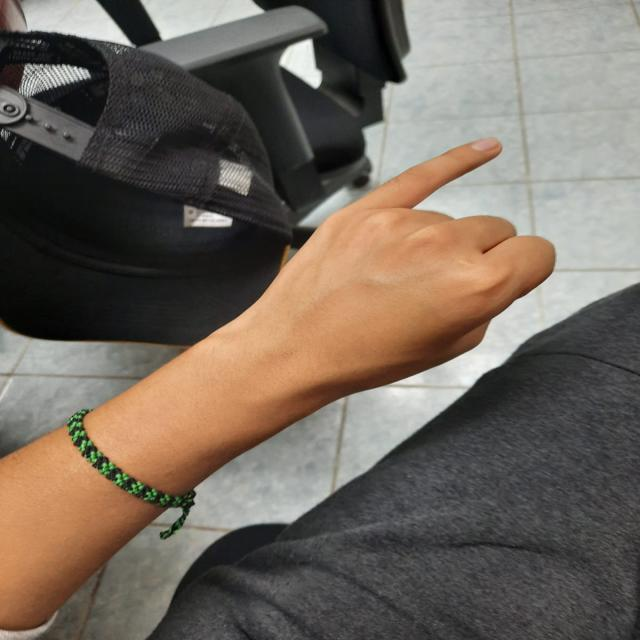Z: (217, 116, 572, 425)
